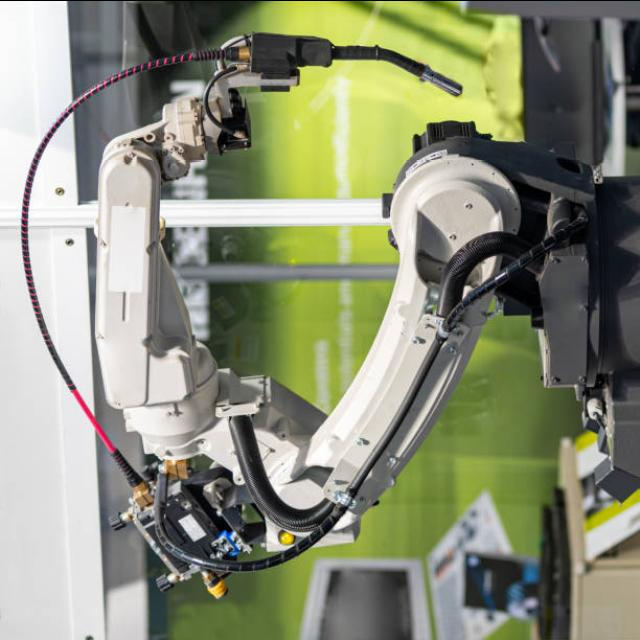Robotic-arm: (82, 26, 640, 592)
